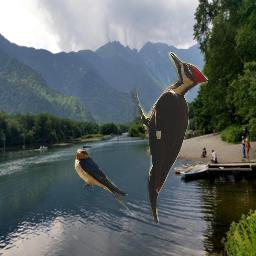Swallow: (74, 148, 134, 216)
Woodpecker: (130, 52, 208, 224)
